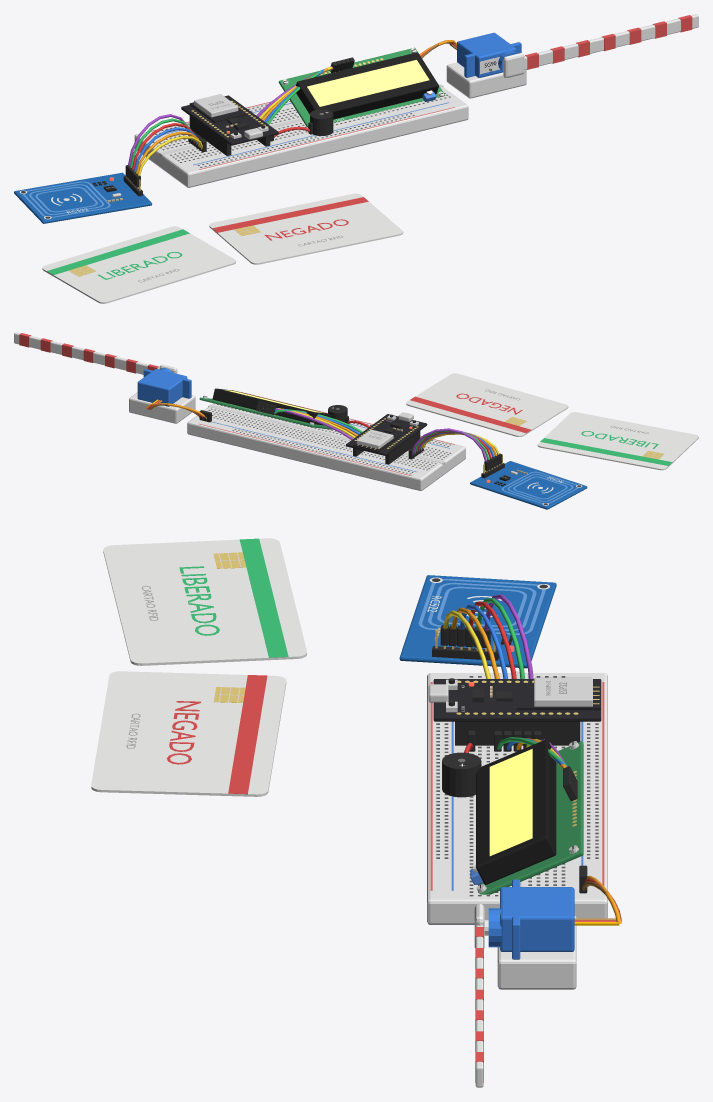
The model's file is KitVirtual.fbx.
The picture shows the model from 3 angles, top to bottom: view 1: azimuth 30°, elevation 25°; view 2: azimuth 150°, elevation 25°; view 3: azimuth 270°, elevation 25°; orthographic projection. The views are drawn at different scales.
Parts seen in each view (by area): view 1: Protoboard_Malha, CartaoNegado_Malha, CartaoLiberado_Malha, LCD_Malha, Leitor_Malha, Servo_Malha, ESP32_Malha, Fios_Malha, Cancela_Malha, LCD_Tela, Buzzer_Malha; view 2: Protoboard_Malha, CartaoLiberado_Malha, CartaoNegado_Malha, Leitor_Malha, Servo_Malha, Fios_Malha, ESP32_Malha, Cancela_Malha, LCD_Malha; view 3: CartaoLiberado_Malha, CartaoNegado_Malha, Protoboard_Malha, ESP32_Malha, LCD_Malha, Servo_Malha, Leitor_Malha, Fios_Malha, LCD_Tela, Cancela_Malha, Buzzer_Malha.
Boxes of the visible parts, left/top/right/bottom form: Protoboard_Malha: left=134, top=83, right=468, bottom=187; CartaoNegado_Malha: left=209, top=193, right=403, bottom=264; CartaoLiberado_Malha: left=42, top=226, right=235, bottom=303; LCD_Malha: left=278, top=47, right=445, bottom=127; Leitor_Malha: left=14, top=172, right=152, bottom=223; Servo_Malha: left=446, top=32, right=526, bottom=98; ESP32_Malha: left=181, top=94, right=278, bottom=155; Fios_Malha: left=125, top=40, right=456, bottom=187; Cancela_Malha: left=503, top=14, right=698, bottom=77; LCD_Tela: left=307, top=60, right=429, bottom=106; Buzzer_Malha: left=310, top=109, right=333, bottom=135; Protoboard_Malha: left=187, top=390, right=465, bottom=490; CartaoLiberado_Malha: left=537, top=412, right=698, bottom=470; CartaoNegado_Malha: left=406, top=373, right=568, bottom=436; Leitor_Malha: left=470, top=454, right=587, bottom=509; Servo_Malha: left=129, top=368, right=195, bottom=423; Fios_Malha: left=145, top=401, right=502, bottom=470; ESP32_Malha: left=346, top=412, right=427, bottom=464; Cancela_Malha: left=14, top=332, right=177, bottom=374; LCD_Malha: left=199, top=388, right=332, bottom=429; CartaoLiberado_Malha: left=103, top=538, right=306, bottom=665; CartaoNegado_Malha: left=91, top=671, right=286, bottom=796; Protoboard_Malha: left=427, top=671, right=607, bottom=924; ESP32_Malha: left=428, top=677, right=601, bottom=745; LCD_Malha: left=470, top=739, right=583, bottom=894; Servo_Malha: left=484, top=879, right=619, bottom=989; Leitor_Malha: left=399, top=575, right=556, bottom=668; Fios_Malha: left=440, top=594, right=621, bottom=924; LCD_Tela: left=489, top=749, right=532, bottom=855; Cancela_Malha: left=474, top=903, right=484, bottom=1087; Buzzer_Malha: left=442, top=752, right=481, bottom=797.
Size of the model in its own units: 0.421 by 0.0309 by 0.1614.
